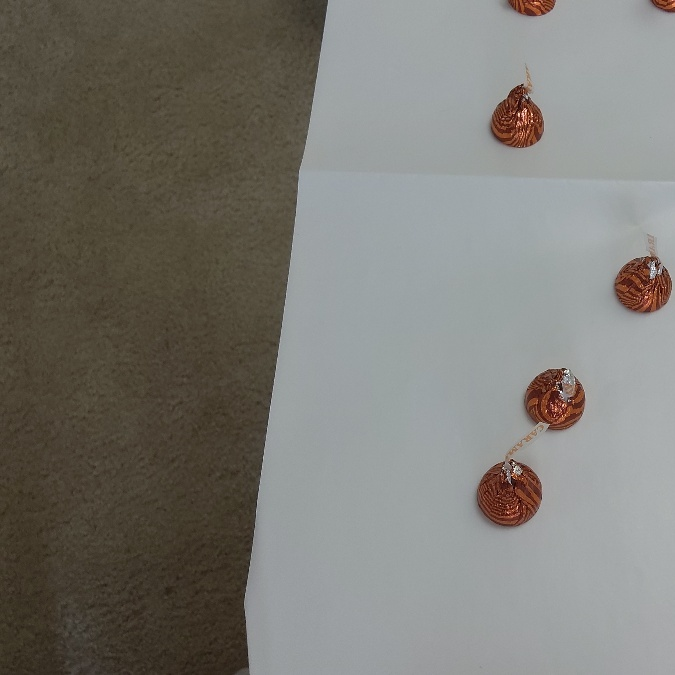chocolate_gold: (521, 362, 587, 432), (481, 83, 546, 153), (475, 457, 540, 527)
